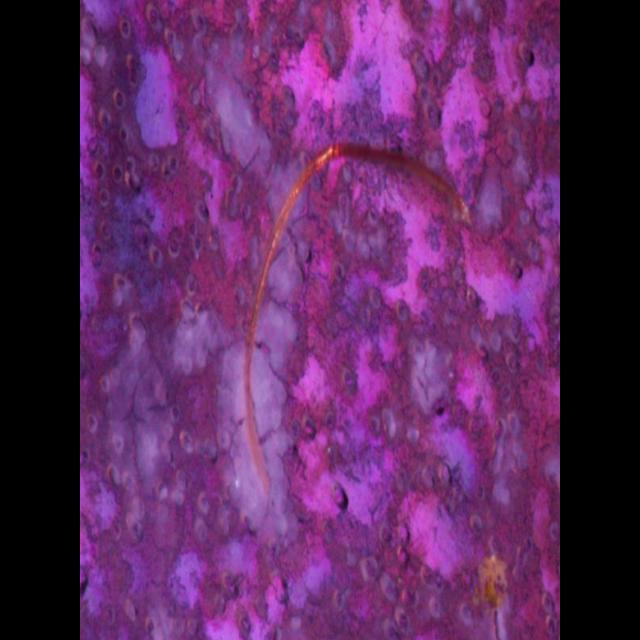Fibre: (239, 140, 473, 530)
